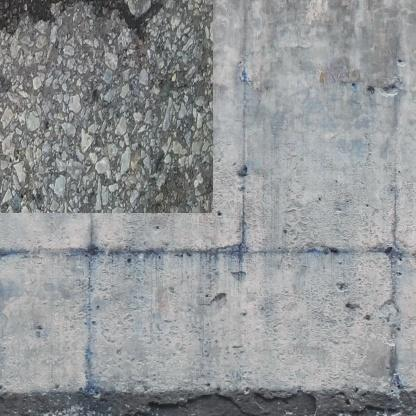Cracks: (0, 0, 153, 40)
